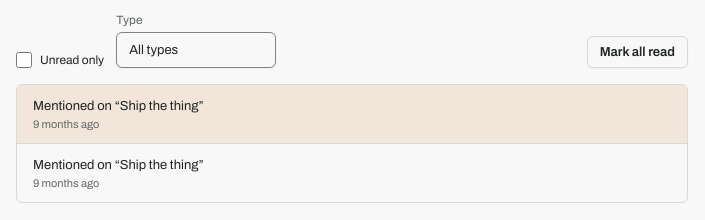
Scenario: NotificationsList click-through › marks everything read, and then has nothing left to offer
Click the button "Mark all read" at (637, 52), box [587,36,688,68]
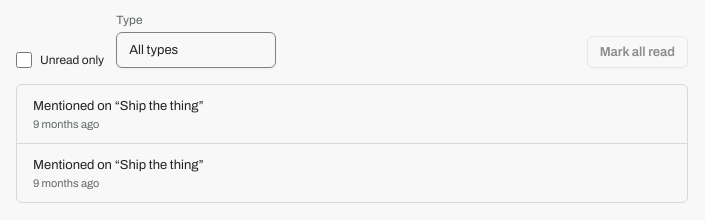
Expected: the button "Mark all read" is disabled, [587,36,688,68]
